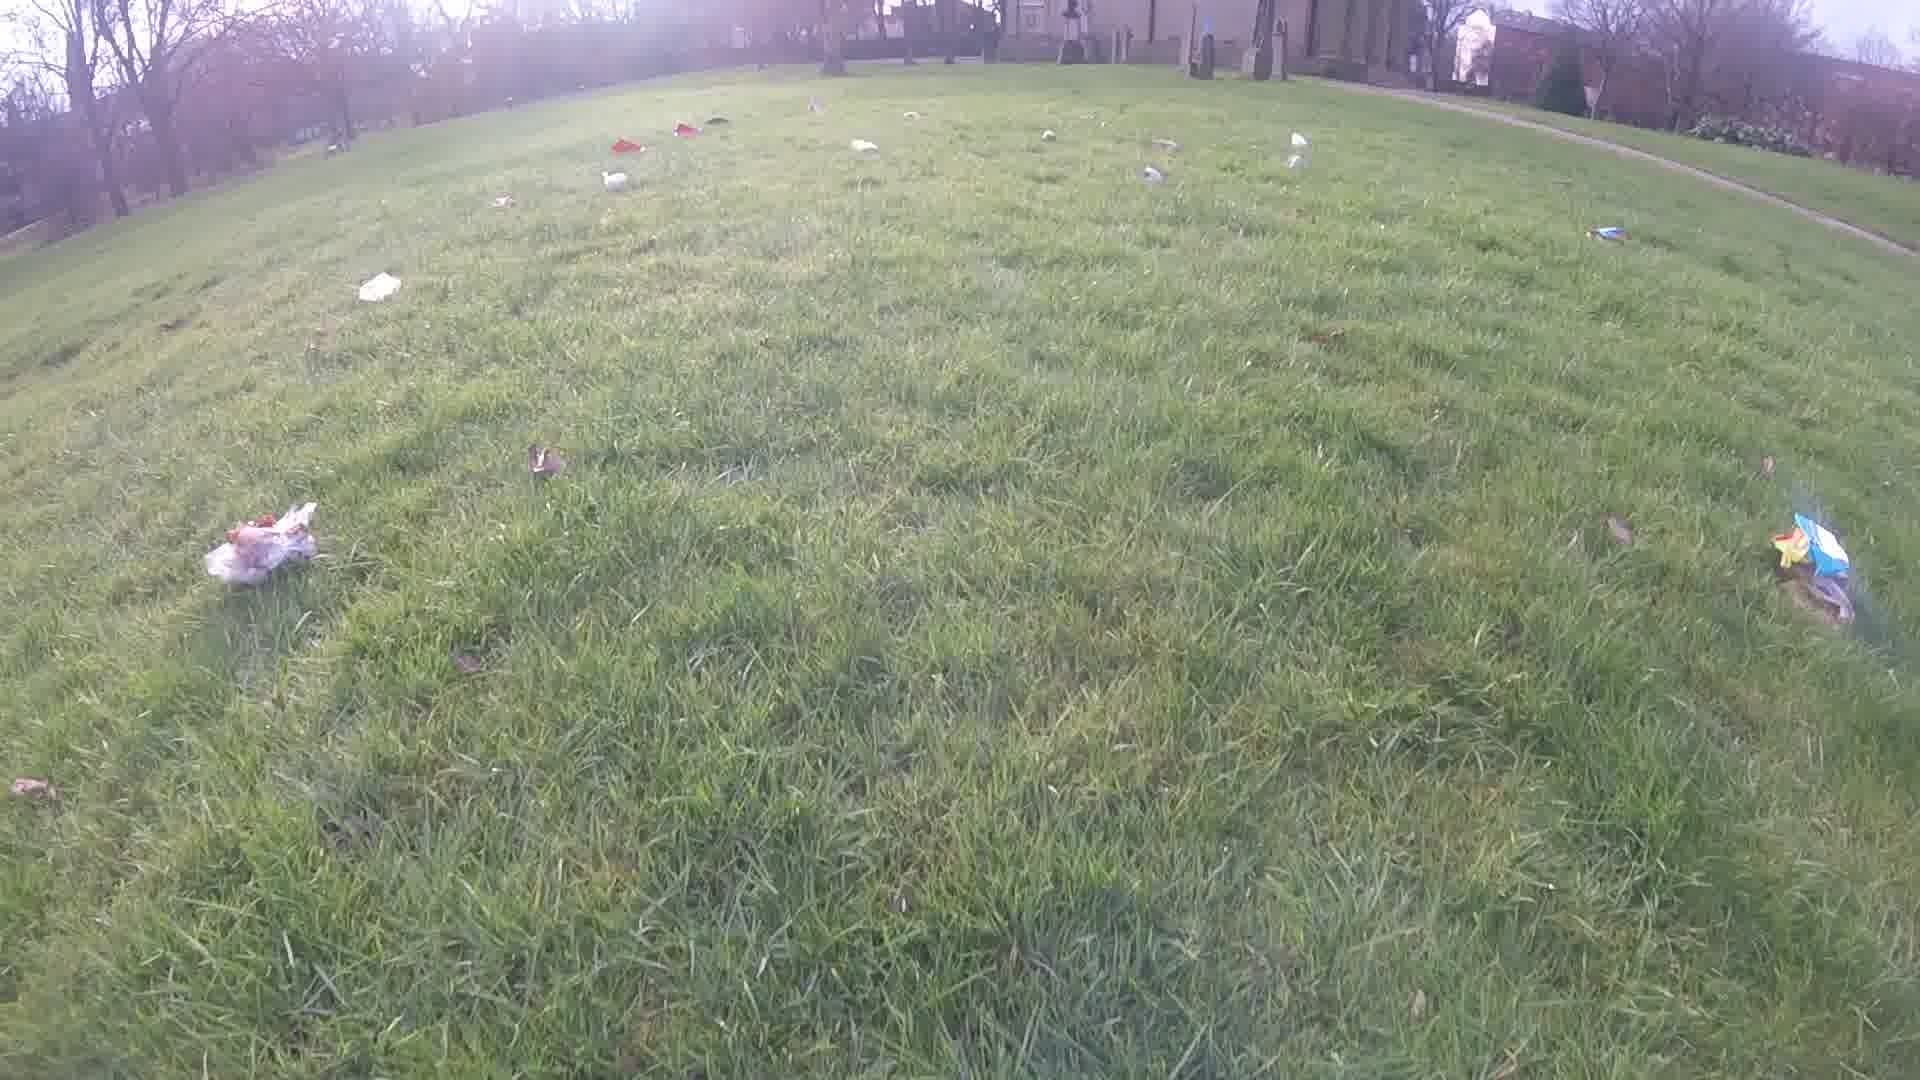litter: (1768, 513, 1855, 629), (203, 502, 316, 589), (357, 269, 401, 303), (1586, 227, 1626, 247), (609, 137, 642, 156), (847, 138, 880, 154), (673, 121, 702, 136), (600, 171, 629, 185), (1284, 131, 1308, 146), (1142, 164, 1160, 179), (899, 105, 919, 120), (707, 115, 731, 127), (1156, 138, 1178, 152), (1284, 153, 1302, 169), (488, 196, 510, 206), (807, 105, 822, 117), (1042, 129, 1054, 142)
